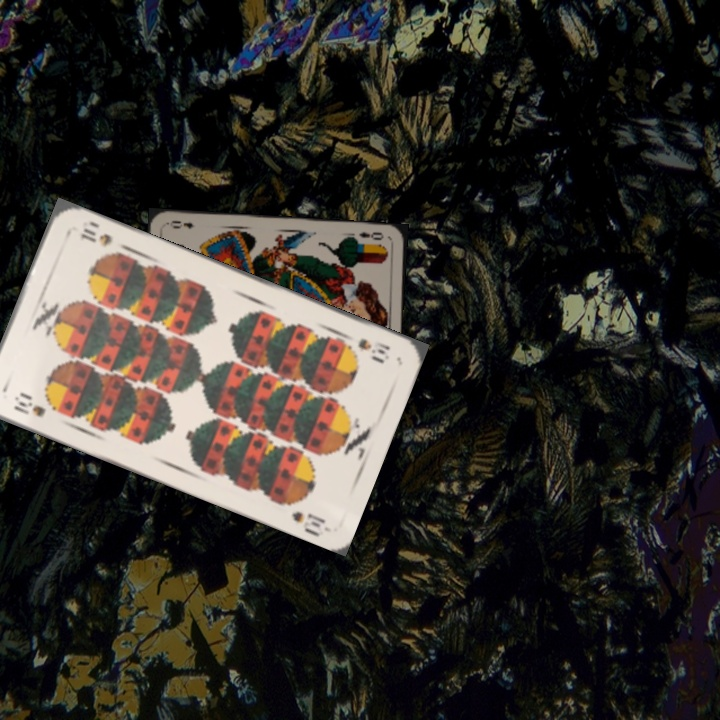EO: (355, 228, 386, 243)
S10: (9, 389, 49, 420), (354, 334, 393, 363)
